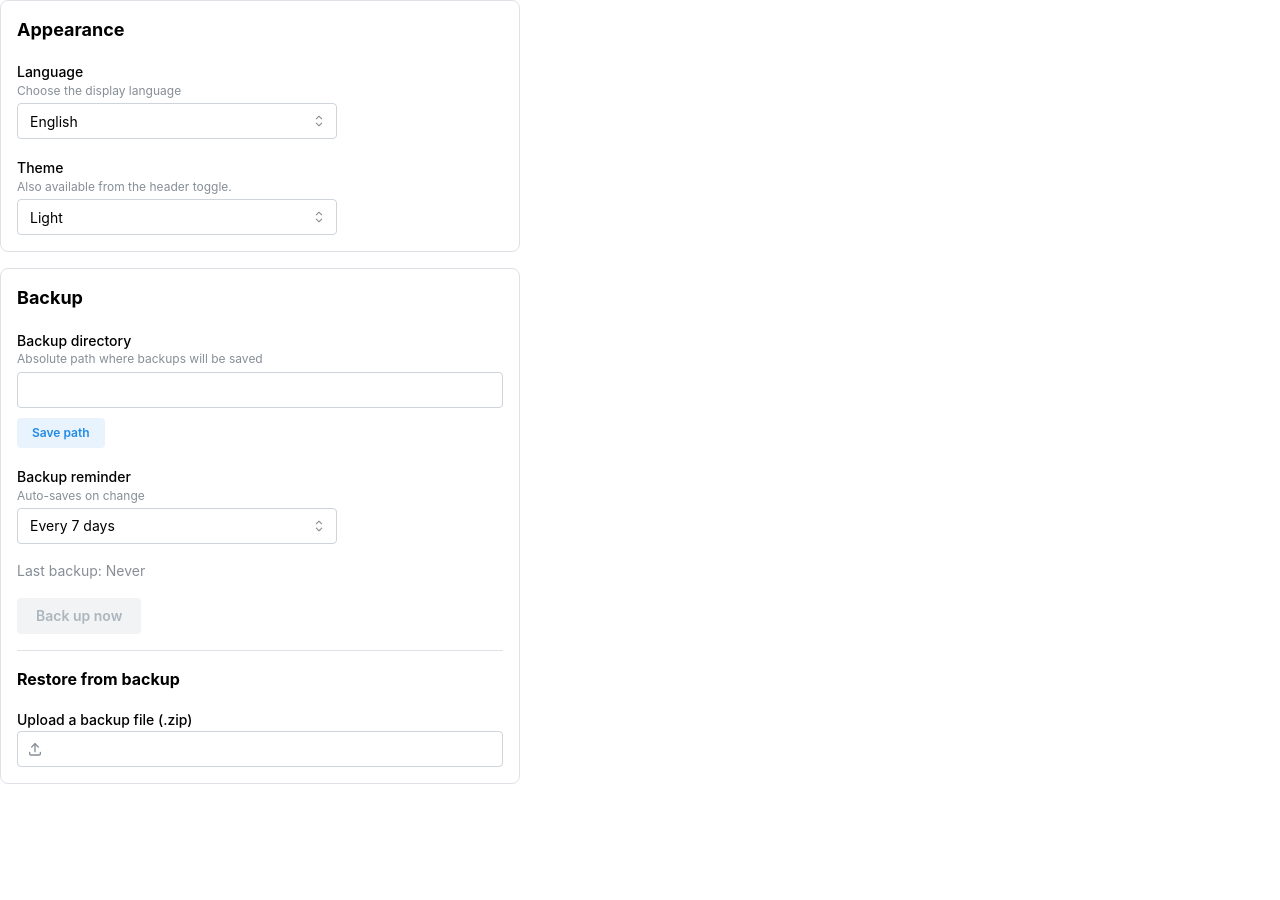
Test case: PlatformTab › switches the color scheme when a different option is picked
Click the field labelled "Theme": [177, 218] box [17,200,337,236]
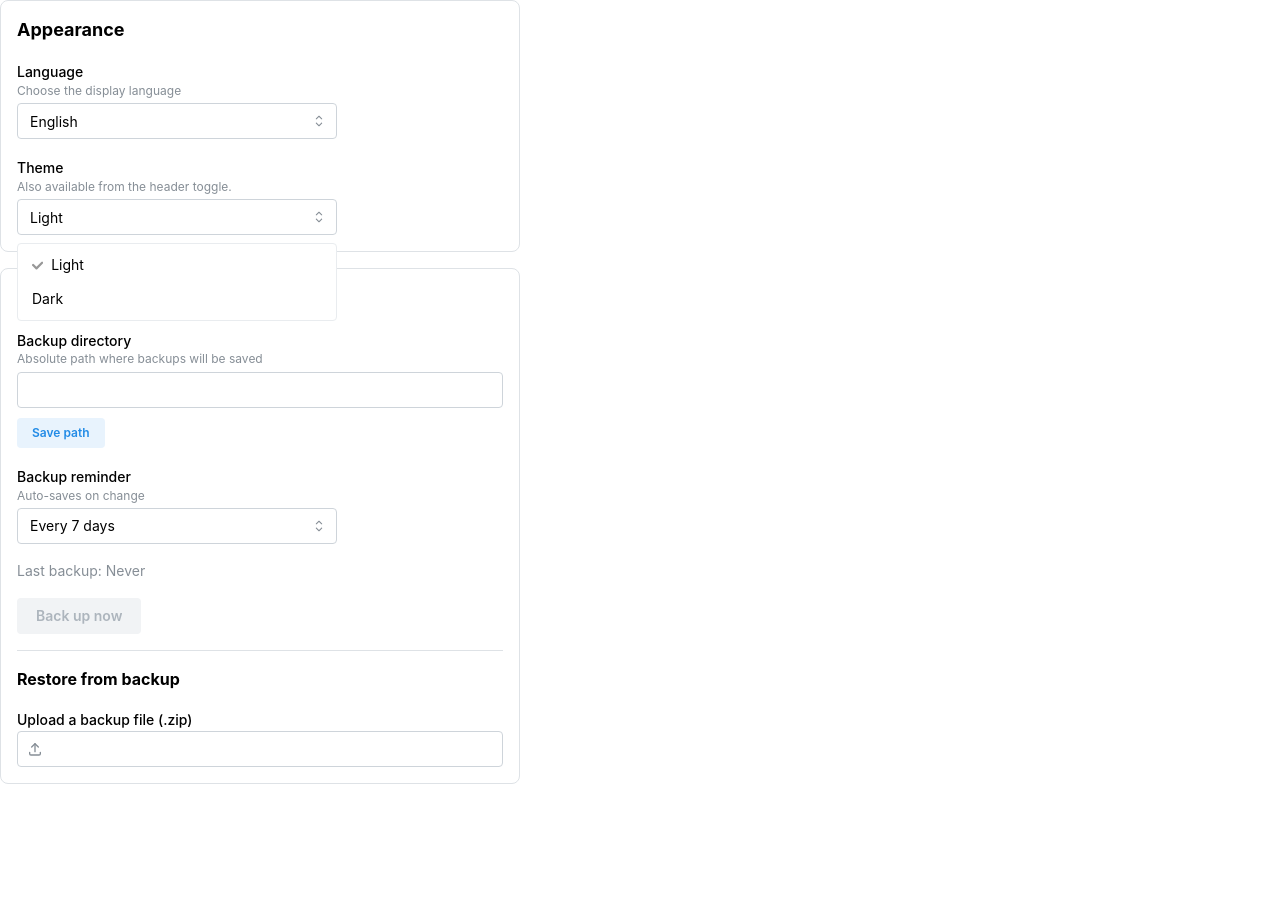
Click the option "Dark": [48, 299] box [32,290,63,307]
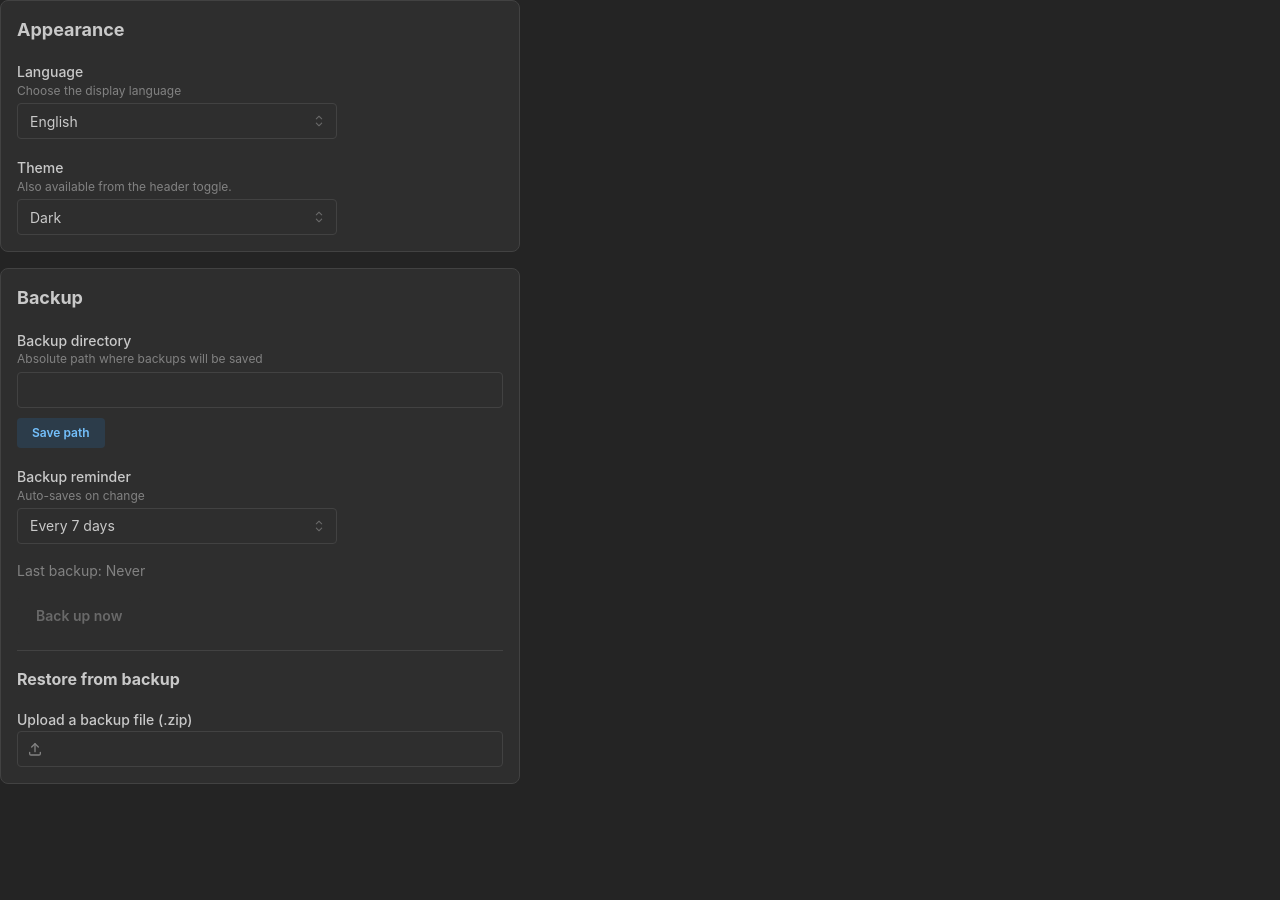
expect the field labelled "Theme" holds "Dark": met, box [17,200,337,236]
